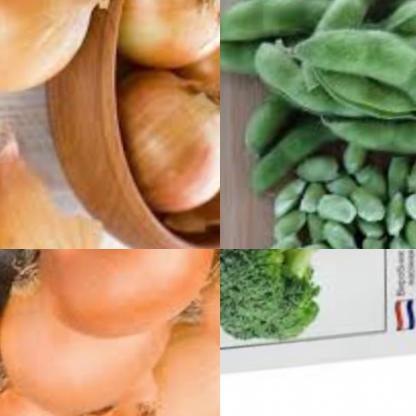beans: (227, 0, 416, 179), (249, 154, 416, 249)
broccoli: (220, 249, 369, 354)
onion: (0, 249, 177, 416), (27, 249, 216, 351), (114, 71, 220, 223), (0, 0, 133, 108), (91, 321, 220, 416), (167, 249, 220, 398), (128, 0, 220, 70), (179, 6, 220, 148)
